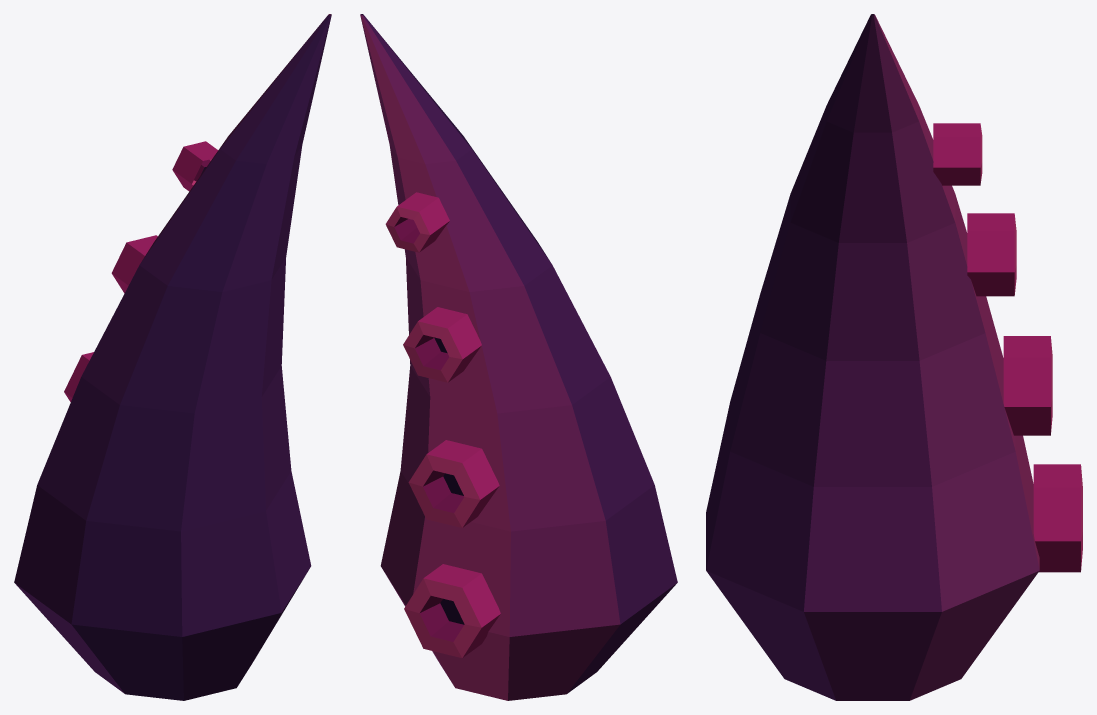
The model's file is tentacle.gltf.
3 renders of one model, left to right at view 1: azimuth 30°, elevation 25°; view 2: azimuth 150°, elevation 25°; view 3: azimuth 270°, elevation 25°, orthographic. The views are drawn at different scales.
Parts seen in each view (by area): view 1: thick-tentacle; view 2: thick-tentacle; view 3: thick-tentacle.
Boxes of the visible parts, x1,y1,x2,y2 form: thick-tentacle: [14, 14, 331, 700]; thick-tentacle: [360, 14, 677, 700]; thick-tentacle: [706, 14, 1082, 700].
Bounding box in the file's own units: 0.2123 × 0.432 × 0.1992.
